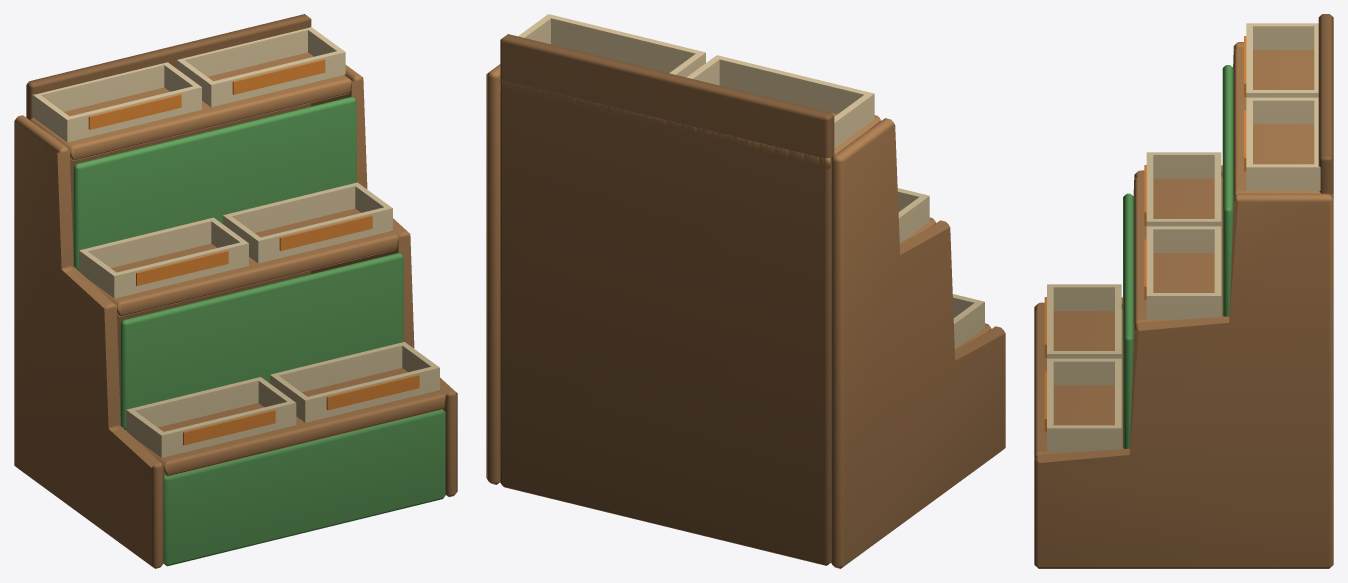
The model's file is ProduceStand_Tiered_10.glb.
3 views of the same model, side by side, from view 1: azimuth 30°, elevation 25°; view 2: azimuth 150°, elevation 25°; view 3: azimuth 270°, elevation 25° (orthographic). The views are drawn at different scales.
Parts seen in each view (by area): view 1: SM_ProduceStand_Tiered_10; view 2: SM_ProduceStand_Tiered_10; view 3: SM_ProduceStand_Tiered_10.
Boxes of the visible parts, x1,y1,x2,y2 form: SM_ProduceStand_Tiered_10: (14,14,457,568); SM_ProduceStand_Tiered_10: (486,14,1005,568); SM_ProduceStand_Tiered_10: (1034,14,1333,568).
Bounding box in the file's own units: 1 × 1.2 × 0.8.
Materials: 1 (1 with a texture image).
